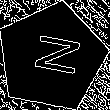N_W: (23, 33, 80, 81)
